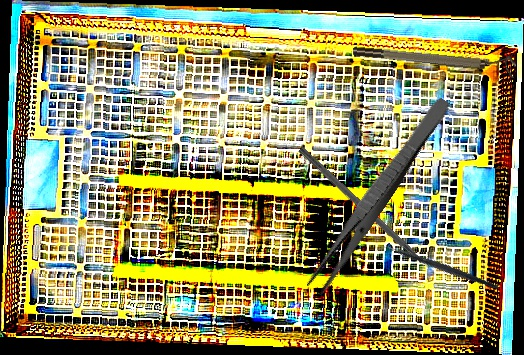Chopper: (375, 210, 500, 326)
Dressing Forceps: (303, 92, 454, 298)
Fixation Ring: (352, 37, 517, 78)
Hook Surgical: (296, 146, 438, 279)
